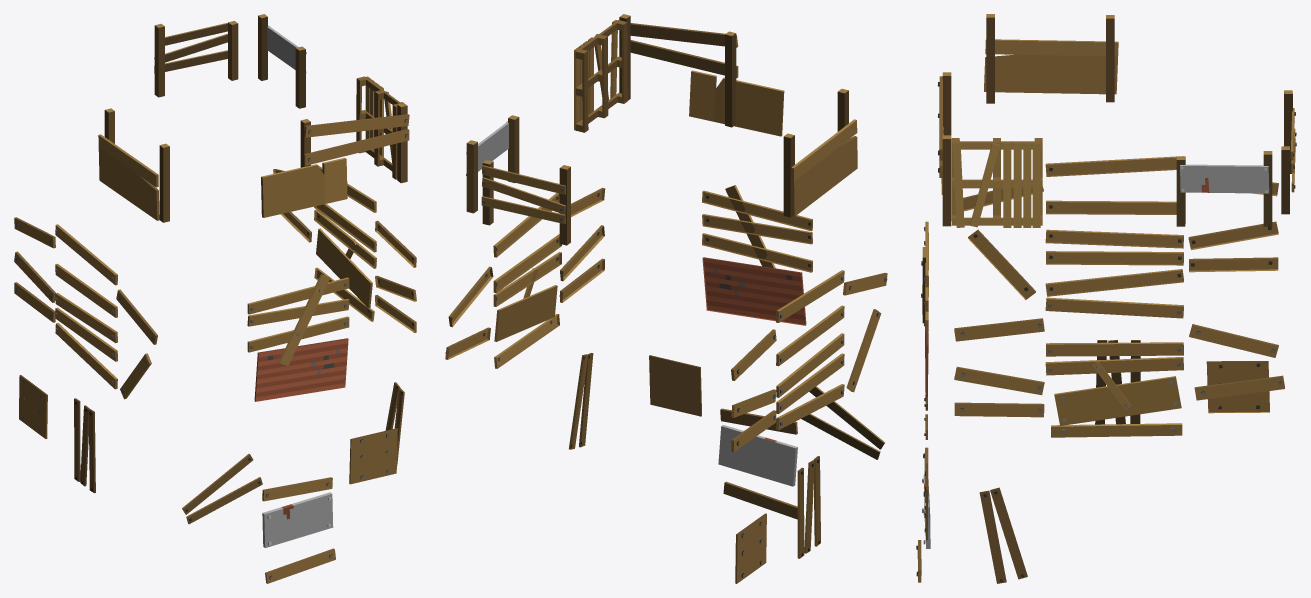
File: SA_Bld_WarehouseOld_Extras_03.gltf
The picture shows the model from 3 angles, left to right: view 1: azimuth 30°, elevation 25°; view 2: azimuth 150°, elevation 25°; view 3: azimuth 270°, elevation 25°; orthographic projection. The views are drawn at different scales.
Parts seen in each view (by area): view 1: SA_Bld_WarehouseOld_Extras_03; view 2: SA_Bld_WarehouseOld_Extras_03; view 3: SA_Bld_WarehouseOld_Extras_03.
Boxes of the visible parts, bbox=[...] form: SA_Bld_WarehouseOld_Extras_03: bbox=[14, 14, 416, 583]; SA_Bld_WarehouseOld_Extras_03: bbox=[445, 14, 887, 583]; SA_Bld_WarehouseOld_Extras_03: bbox=[916, 14, 1296, 583].
Bounding box in the file's own units: 11.99 × 19.01 × 12.94.
1 material, 1 textured.
